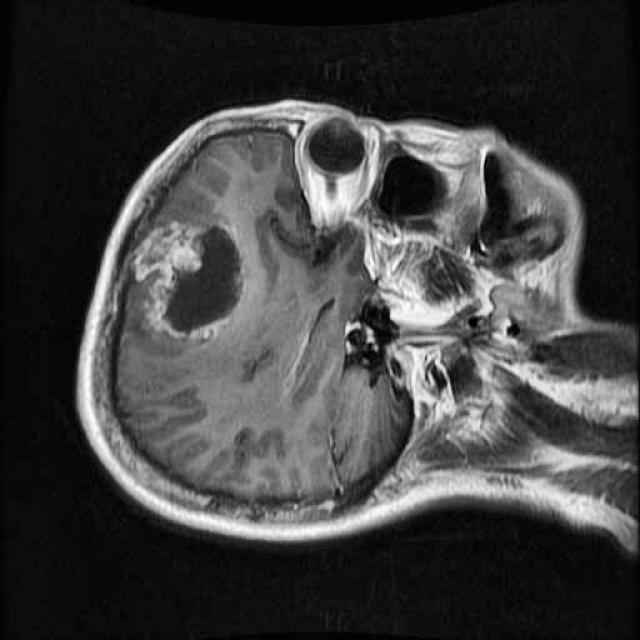Non-Tumor: (121, 201, 259, 352)
